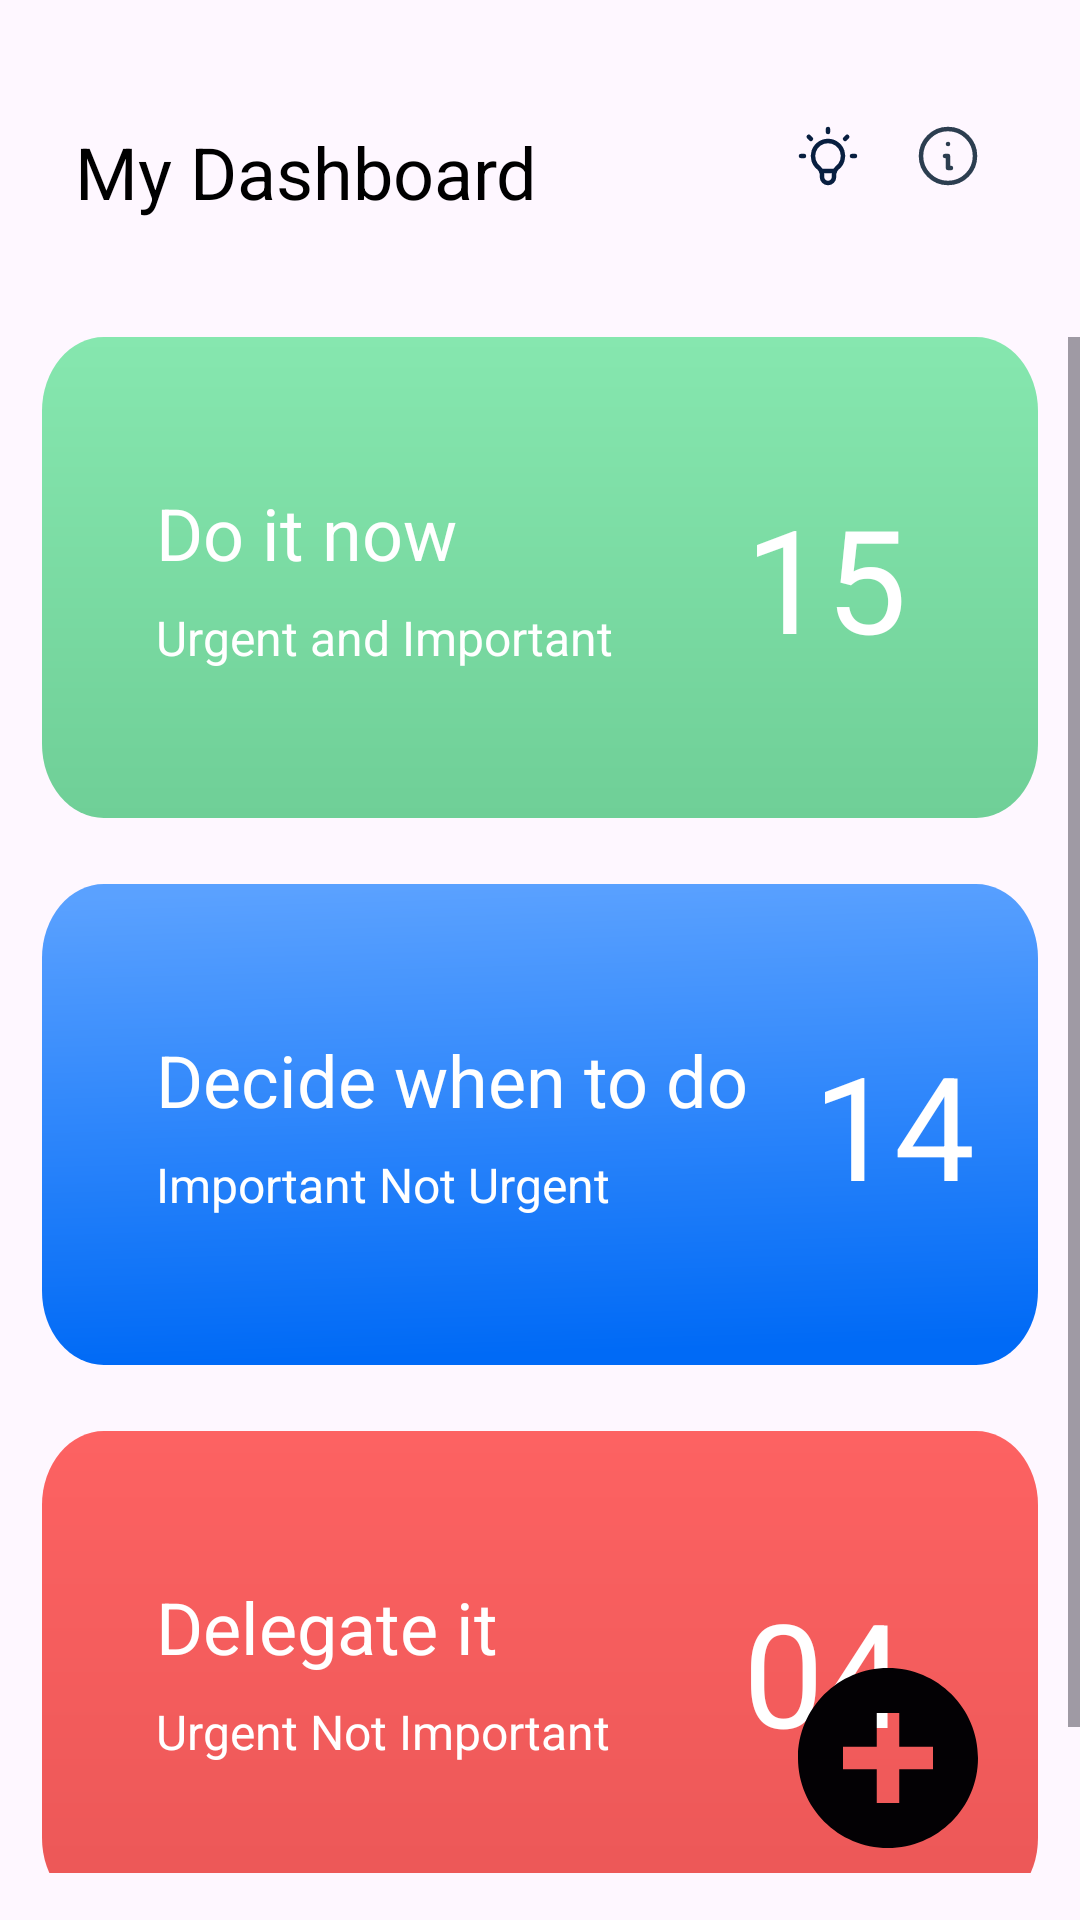

Locate icon controls on the screen. Image size 1080x1920, boxes as bbox(x1, y1, x2, y2).
info: bbox(918, 126, 978, 186)
lamp: bbox(798, 126, 857, 186)
